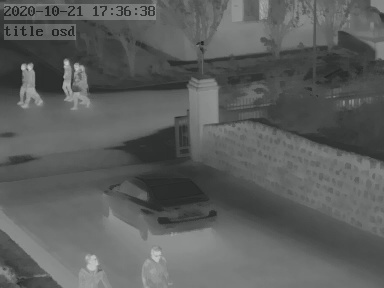person: (139, 245, 171, 288), (77, 253, 108, 288), (19, 61, 38, 107), (73, 63, 88, 107), (61, 57, 74, 103)
vehicle: (103, 175, 217, 238)
